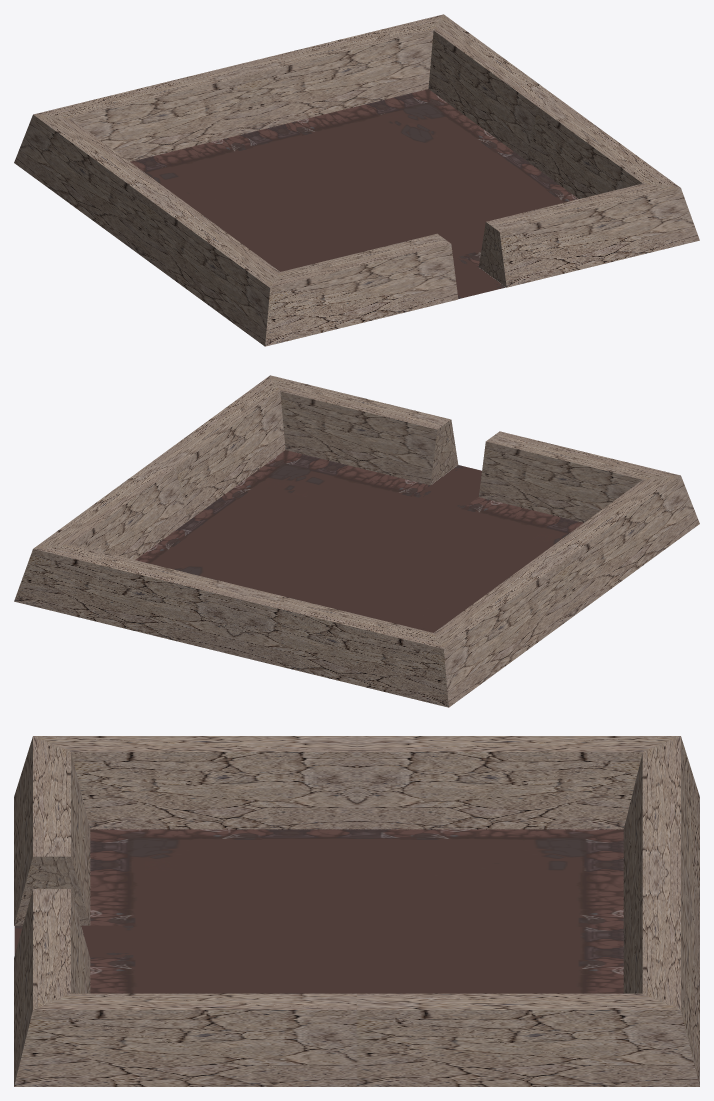
Rendered from sala_3.obj.
3 renders of one model, top to bottom at view 1: azimuth 30°, elevation 25°; view 2: azimuth 150°, elevation 25°; view 3: azimuth 270°, elevation 25°, orthographic. The views are drawn at different scales.
Visible parts, largest first — view 1: Ground_Plane.001, Wall.000_Cube.011, Wall.007_Cube.017, Wall.002_Cube.014, Wall.005_Cube.002, Wall.004_Cube.015, Wall.006_Cube.016, Wall.003_Cube.010, Wall.001_Cube.012, Plane.002_Plane.008; view 2: Ground_Plane.001, Wall.002_Cube.014, Wall.005_Cube.002, Wall.000_Cube.011, Wall.006_Cube.016, Wall.004_Cube.015, Wall.007_Cube.017, Wall.001_Cube.012, Wall.003_Cube.010, Plane.002_Plane.008; view 3: Ground_Plane.001, Wall.003_Cube.010, Wall.001_Cube.012, Wall.004_Cube.015, Wall.006_Cube.016, Wall.007_Cube.017, Wall.005_Cube.002, Wall.002_Cube.014, Wall.000_Cube.011, Plane.002_Plane.008.
Boxes of the visible parts, x1=… form: Ground_Plane.001: x1=130, y1=89, x2=578, y2=271; Wall.000_Cube.011: x1=479, y1=183, x2=699, y2=287; Wall.007_Cube.017: x1=265, y1=233, x2=458, y2=346; Wall.002_Cube.014: x1=239, y1=14, x2=443, y2=129; Wall.005_Cube.002: x1=33, y1=64, x2=259, y2=161; Wall.004_Cube.015: x1=14, y1=114, x2=175, y2=254; Wall.006_Cube.016: x1=139, y1=195, x2=279, y2=346; Wall.003_Cube.010: x1=428, y1=14, x2=561, y2=159; Wall.001_Cube.012: x1=526, y1=101, x2=680, y2=198; Plane.002_Plane.008: x1=453, y1=255, x2=505, y2=298; Ground_Plane.001: x1=135, y1=450, x2=583, y2=632; Wall.002_Cube.014: x1=14, y1=544, x2=251, y2=654; Wall.005_Cube.002: x1=231, y1=589, x2=448, y2=707; Wall.000_Cube.011: x1=270, y1=375, x2=458, y2=485; Wall.006_Cube.016: x1=538, y1=475, x2=699, y2=615; Wall.004_Cube.015: x1=434, y1=556, x2=574, y2=707; Wall.007_Cube.017: x1=479, y1=431, x2=680, y2=522; Wall.001_Cube.012: x1=152, y1=375, x2=285, y2=520; Wall.003_Cube.010: x1=33, y1=462, x2=187, y2=559; Plane.002_Plane.008: x1=415, y1=465, x2=481, y2=508; Ground_Plane.001: x1=90, y1=829, x2=623, y2=993; Wall.003_Cube.010: x1=357, y1=993, x2=699, y2=1086; Wall.001_Cube.012: x1=14, y1=993, x2=356, y2=1086; Wall.004_Cube.015: x1=357, y1=736, x2=680, y2=829; Wall.006_Cube.016: x1=33, y1=736, x2=356, y2=829; Wall.007_Cube.017: x1=14, y1=736, x2=90, y2=925; Wall.005_Cube.002: x1=623, y1=736, x2=699, y2=941; Wall.002_Cube.014: x1=623, y1=873, x2=699, y2=1085; Wall.000_Cube.011: x1=14, y1=889, x2=90, y2=1085; Plane.002_Plane.008: x1=14, y1=925, x2=133, y2=957.
Bounding box in the file's own units: 18 × 2 × 18.
